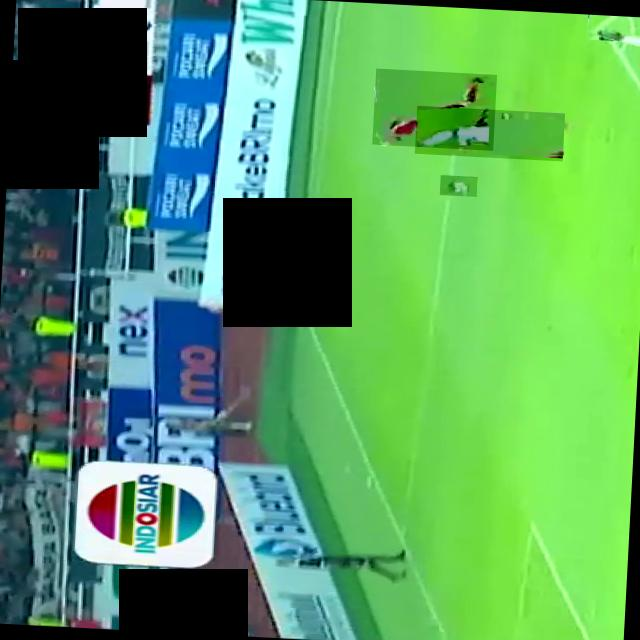ball: (440, 174, 478, 196)
soccer-player: (372, 68, 497, 150), (415, 104, 565, 160), (586, 13, 640, 47)
